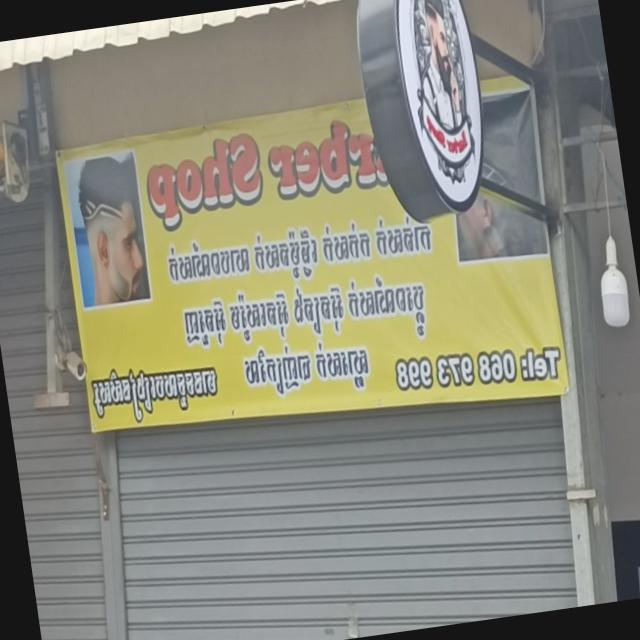1: (238, 333, 374, 401)
3: (158, 210, 437, 298), (176, 270, 432, 356)
Yolov11kh: (86, 355, 222, 435)
